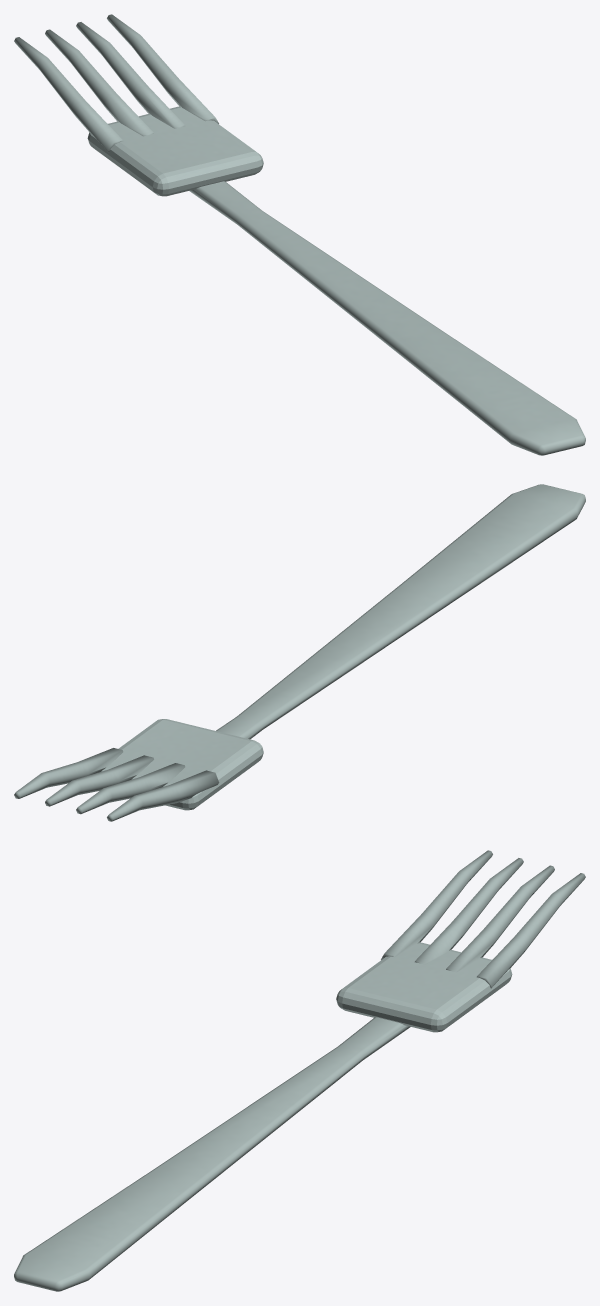
Rendered from 07_Dinner_Fork.fbx.
The picture shows the model from 3 angles, top to bottom: view 1: azimuth 30°, elevation 25°; view 2: azimuth 150°, elevation 25°; view 3: azimuth 330°, elevation 25°; orthographic projection.
Parts seen in each view (by area): view 1: 07_Dinner_Fork_Mesh; view 2: 07_Dinner_Fork_Mesh; view 3: 07_Dinner_Fork_Mesh.
Boxes of the visible parts, bbox=[...] form: 07_Dinner_Fork_Mesh: bbox=[14, 14, 585, 455]; 07_Dinner_Fork_Mesh: bbox=[14, 484, 585, 821]; 07_Dinner_Fork_Mesh: bbox=[14, 850, 585, 1291].
Size of the model in its own units: 2.64 by 1.37 by 20.56.
1 material, 1 textured.
